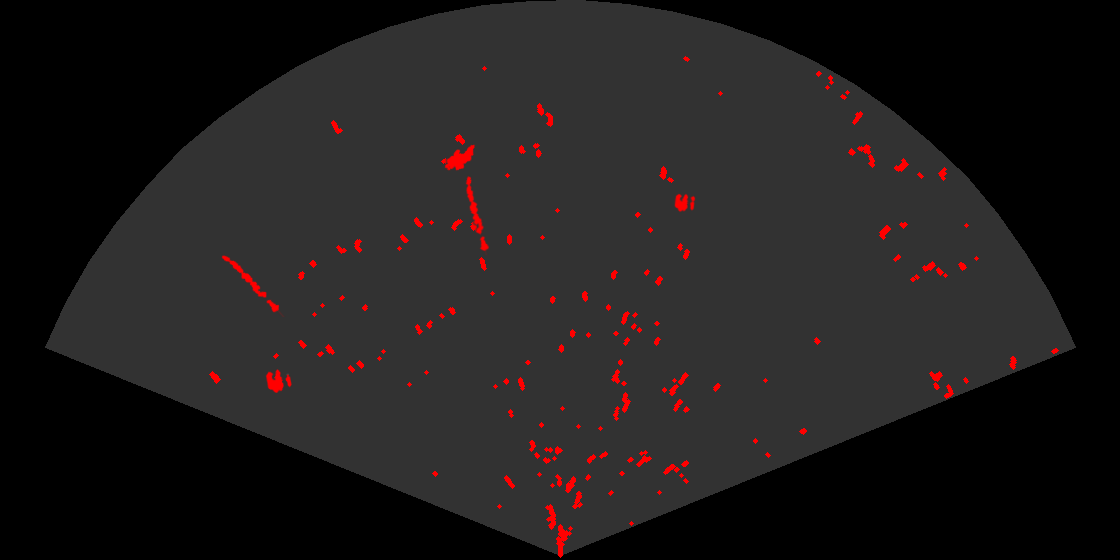AUV: (443, 143, 477, 172)
ball: (264, 368, 293, 394), (673, 192, 697, 214)
chain: (220, 254, 286, 317), (464, 174, 491, 255)
